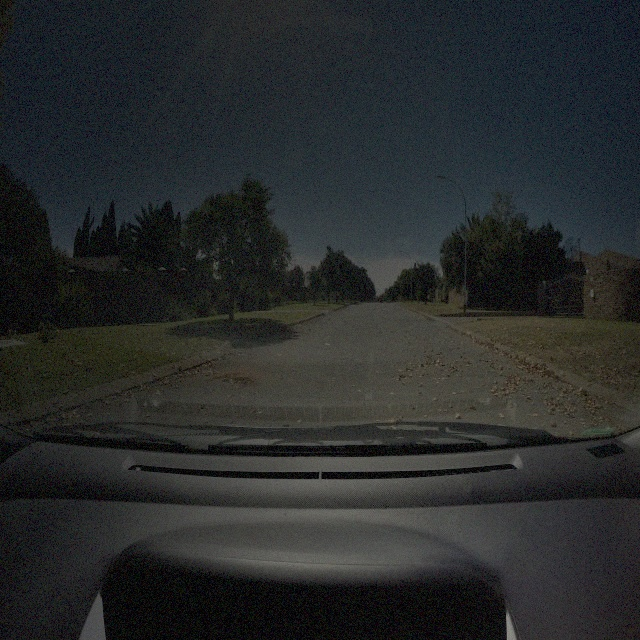pothole: (225, 373, 261, 392)
